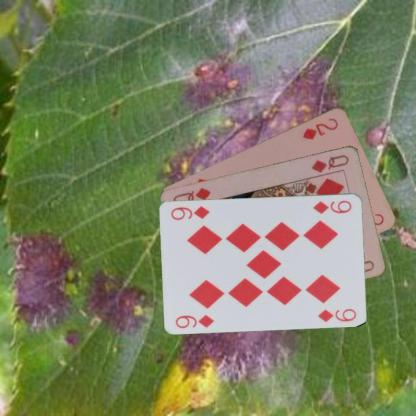2d: (300, 114, 340, 141)
9d: (310, 198, 353, 215), (174, 312, 216, 329)
Qd: (309, 152, 350, 174)
